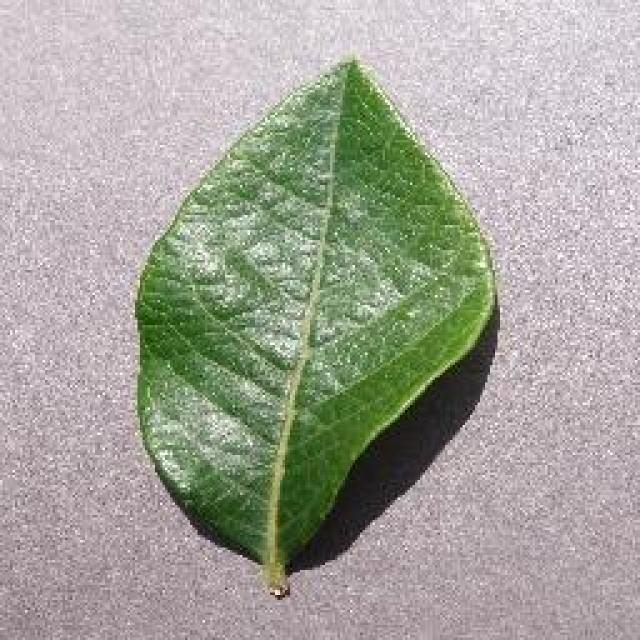Blu_healthy: (151, 112, 465, 506)
